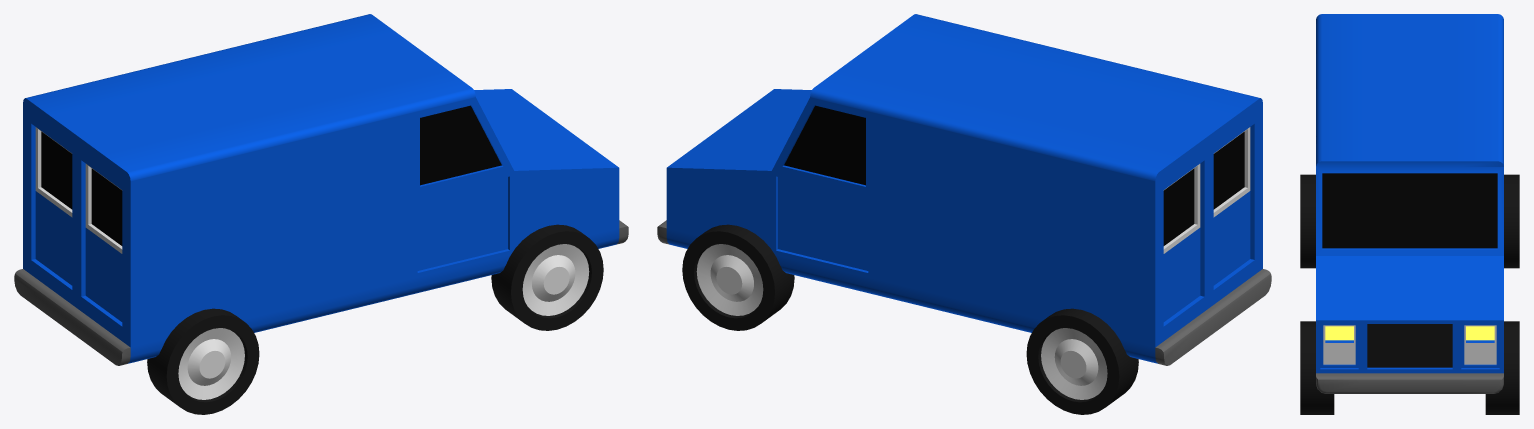
The model's file is Bus.fbx.
The picture shows the model from 3 angles, left to right: view 1: azimuth 30°, elevation 25°; view 2: azimuth 150°, elevation 25°; view 3: azimuth 270°, elevation 25°; orthographic projection. The views are drawn at different scales.
Visible parts, largest first — view 1: Cube; view 2: Cube; view 3: Cube.
Boxes of the visible parts, x1,y1,x2,y2 form: Cube: (14, 14, 628, 414); Cube: (657, 14, 1271, 414); Cube: (1300, 14, 1519, 414).
Bounding box in the file's own units: 1096 × 515 × 469.
